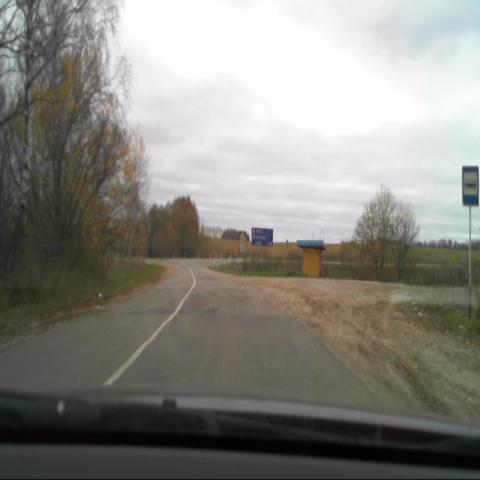5_16: (462, 165, 478, 206)
